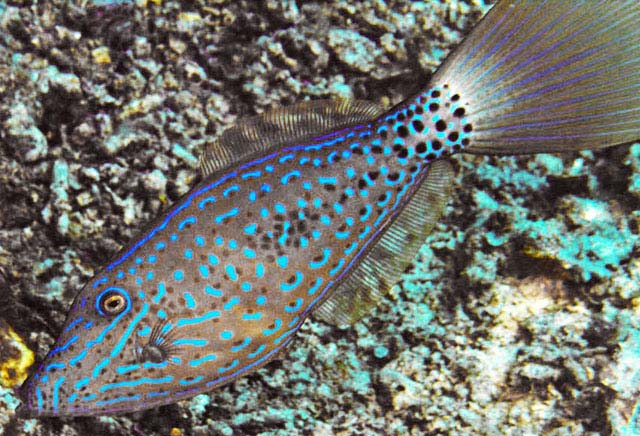Aluterus_scriptus: (23, 1, 639, 421)
